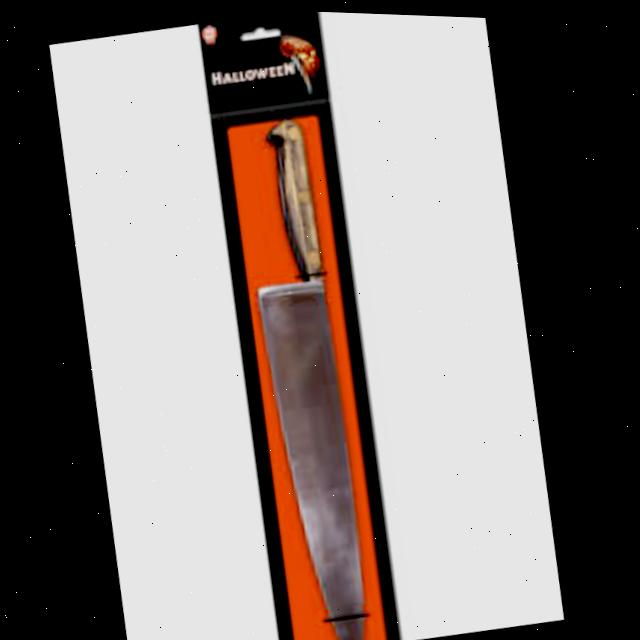Knife: (216, 110, 398, 640)
